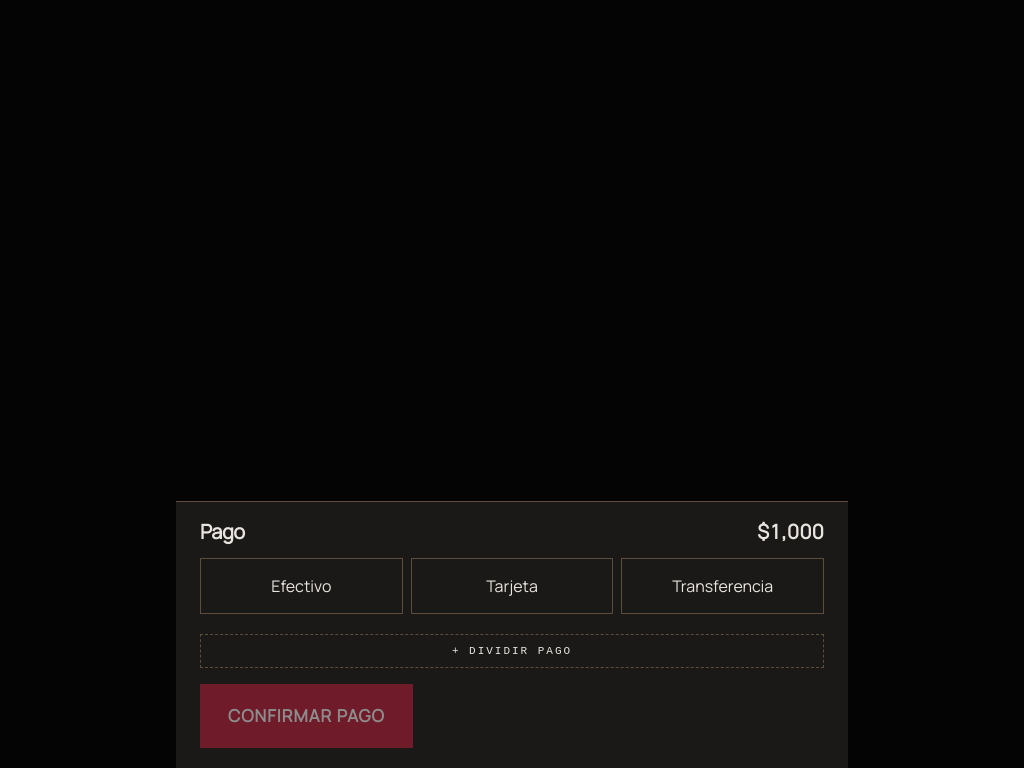
Scenario: PaymentSheet › selecting TARJETA shows TipInput
The width and height of the screenshot is (1024, 768).
Click the button "Tarjeta" at coordinates (512, 586), box [411, 558, 613, 614]
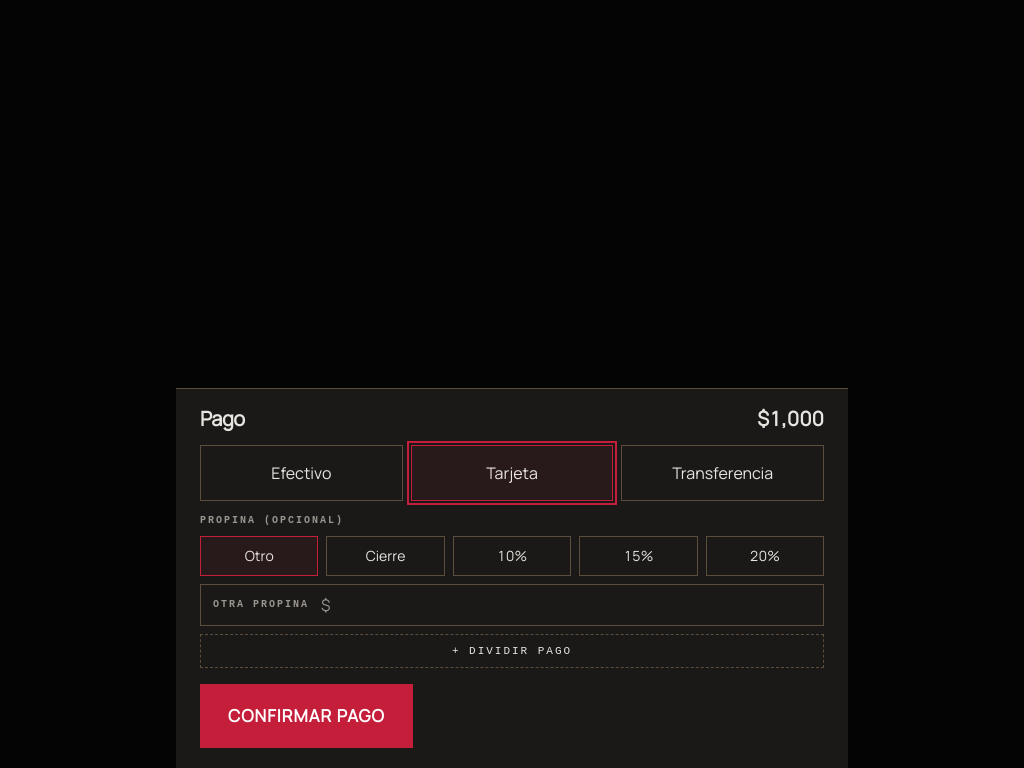
Result: the text "Propina (opcional)" is shown at [200, 514, 344, 526]
